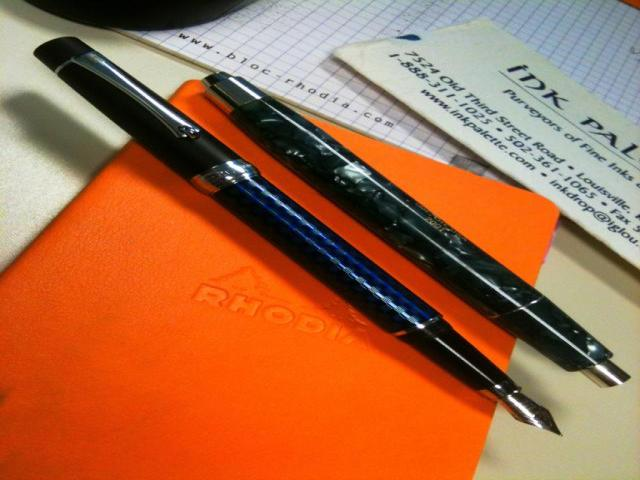PEN: (8, 2, 588, 480)
